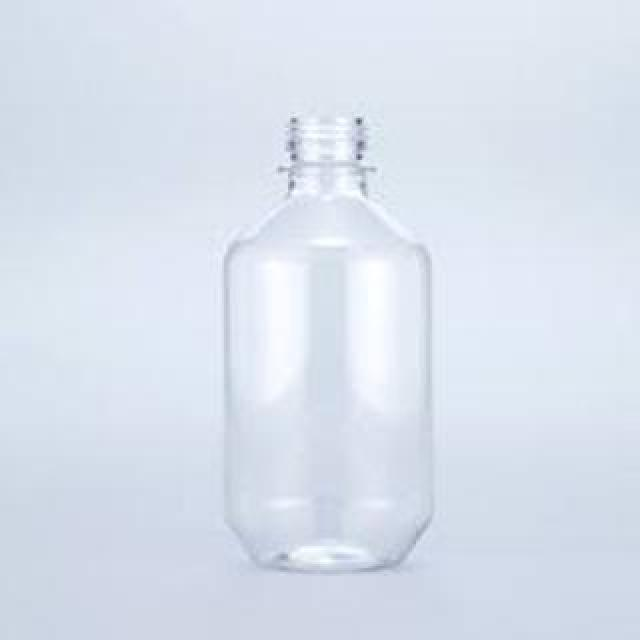Pet_Bottle: (218, 109, 430, 577)
